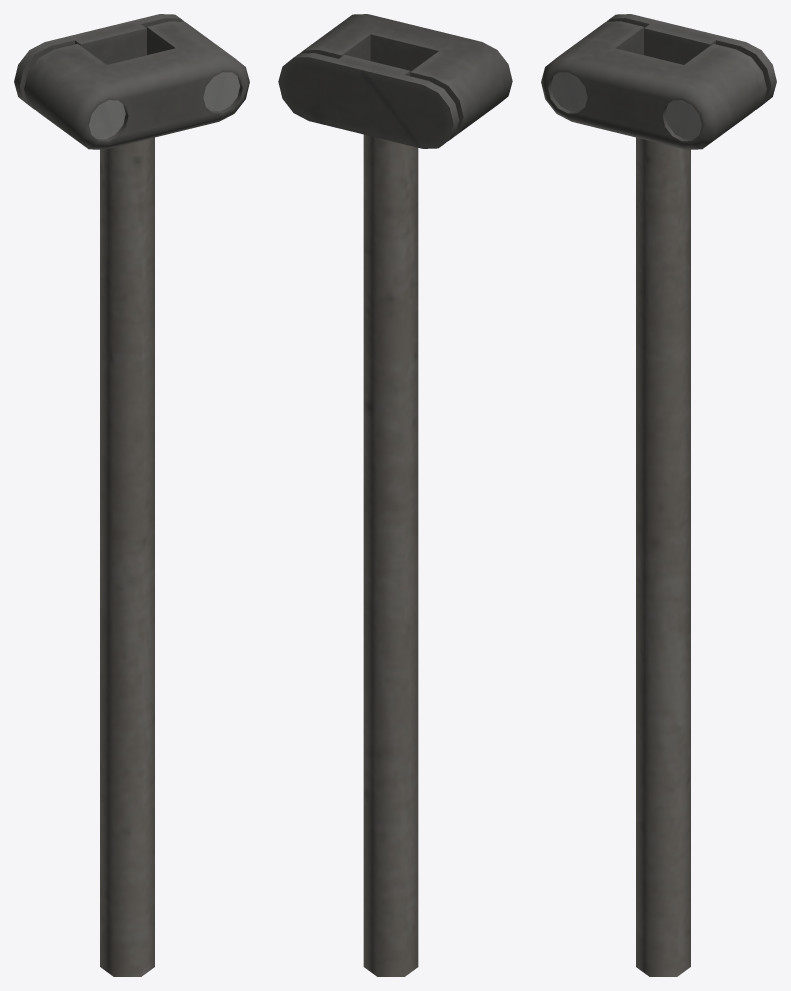
The model's file is cable_cable_straight_medium.fbx.
The picture shows the model from 3 angles, left to right: view 1: azimuth 30°, elevation 25°; view 2: azimuth 150°, elevation 25°; view 3: azimuth 330°, elevation 25°; orthographic projection.
Visible parts, largest first — view 1: modular_electric_cables__cable_straight_medium; view 2: modular_electric_cables__cable_straight_medium; view 3: modular_electric_cables__cable_straight_medium.
Boxes of the visible parts, x1,y1,x2,y2 form: modular_electric_cables__cable_straight_medium: (14,14,249,976); modular_electric_cables__cable_straight_medium: (278,14,512,976); modular_electric_cables__cable_straight_medium: (541,14,776,976).
Bounding box in the file's own units: 0.0416 × 0.2073 × 0.0259.
